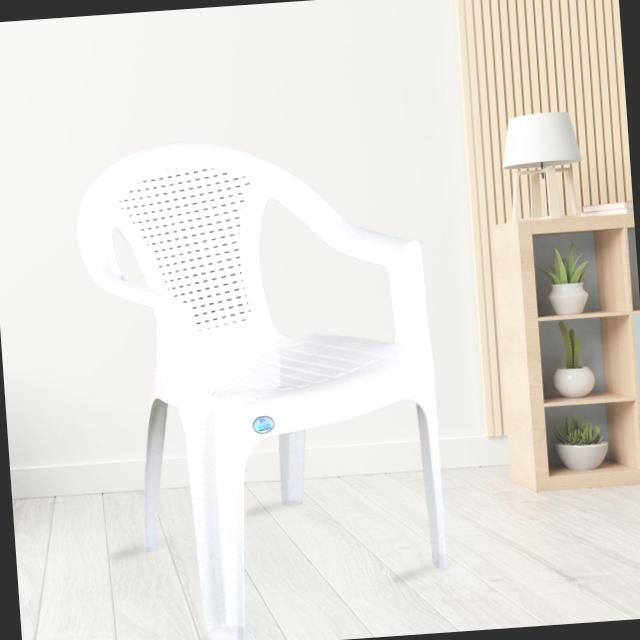obstacle: (42, 95, 468, 640)
